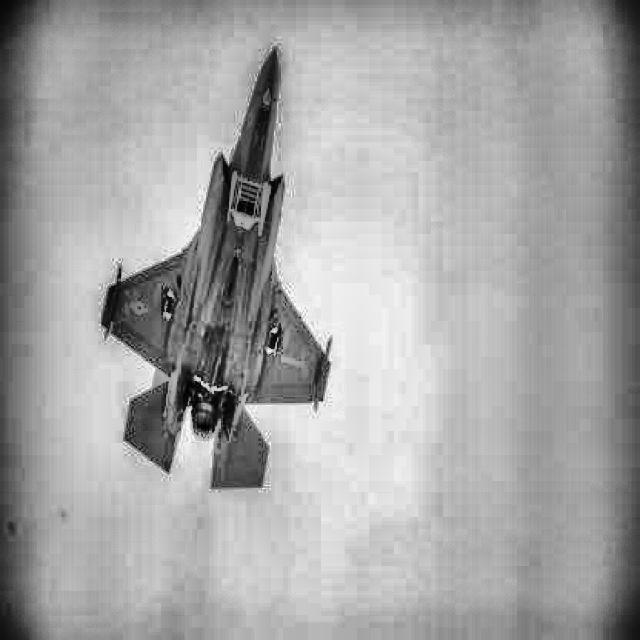F35: (100, 46, 332, 489)
